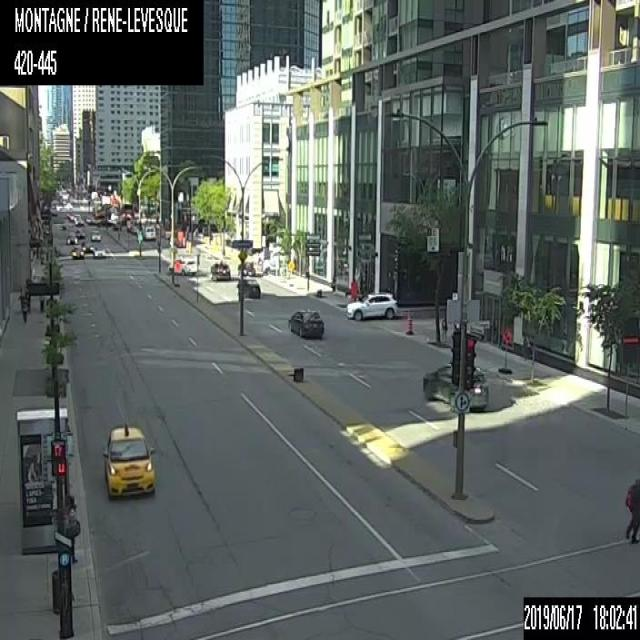construction: (497, 328, 511, 371), (174, 261, 180, 285), (406, 312, 412, 333), (176, 230, 183, 246)
pedestrian: (63, 490, 80, 562), (624, 477, 639, 544), (348, 272, 363, 301), (18, 284, 28, 324)
vehicle: (101, 423, 156, 496), (422, 362, 488, 409), (345, 290, 397, 318), (286, 306, 324, 338), (168, 256, 196, 275), (235, 277, 260, 297), (209, 260, 230, 279), (142, 222, 156, 238), (237, 262, 255, 274), (80, 238, 95, 252), (71, 245, 84, 259), (90, 228, 101, 240), (66, 232, 77, 243), (94, 246, 104, 257), (75, 228, 86, 237), (75, 216, 83, 224)
